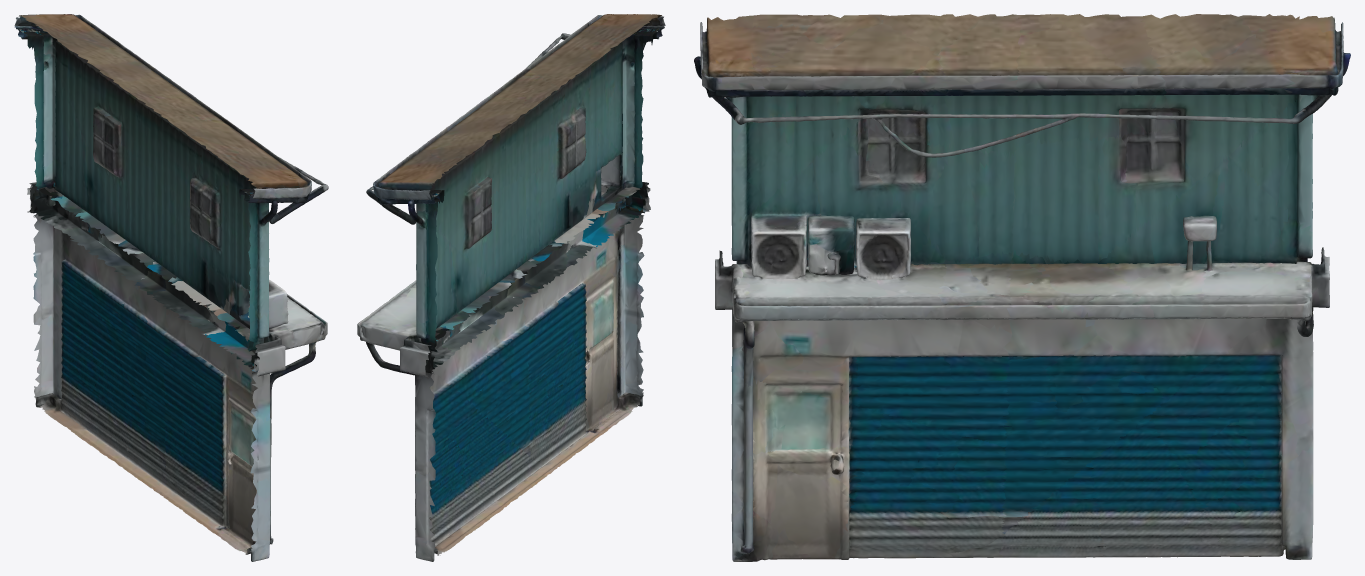
3 views of the same model, side by side, from view 1: azimuth 30°, elevation 25°; view 2: azimuth 150°, elevation 25°; view 3: azimuth 270°, elevation 25° (orthographic). The views are drawn at different scales.
Visible parts, largest first — view 1: Meshy_AI_Blue_Shuttered_Facade_0106035705_texture; view 2: Meshy_AI_Blue_Shuttered_Facade_0106035705_texture; view 3: Meshy_AI_Blue_Shuttered_Facade_0106035705_texture.
Boxes of the visible parts, x1=… form: Meshy_AI_Blue_Shuttered_Facade_0106035705_texture: x1=14, y1=14, x2=328, y2=561; Meshy_AI_Blue_Shuttered_Facade_0106035705_texture: x1=357, y1=14, x2=665, y2=561; Meshy_AI_Blue_Shuttered_Facade_0106035705_texture: x1=694, y1=14, x2=1350, y2=561.
Bounding box in the file's own units: 0.256 × 1.03 × 1.15.
Materials: 1 (1 with a texture image).
